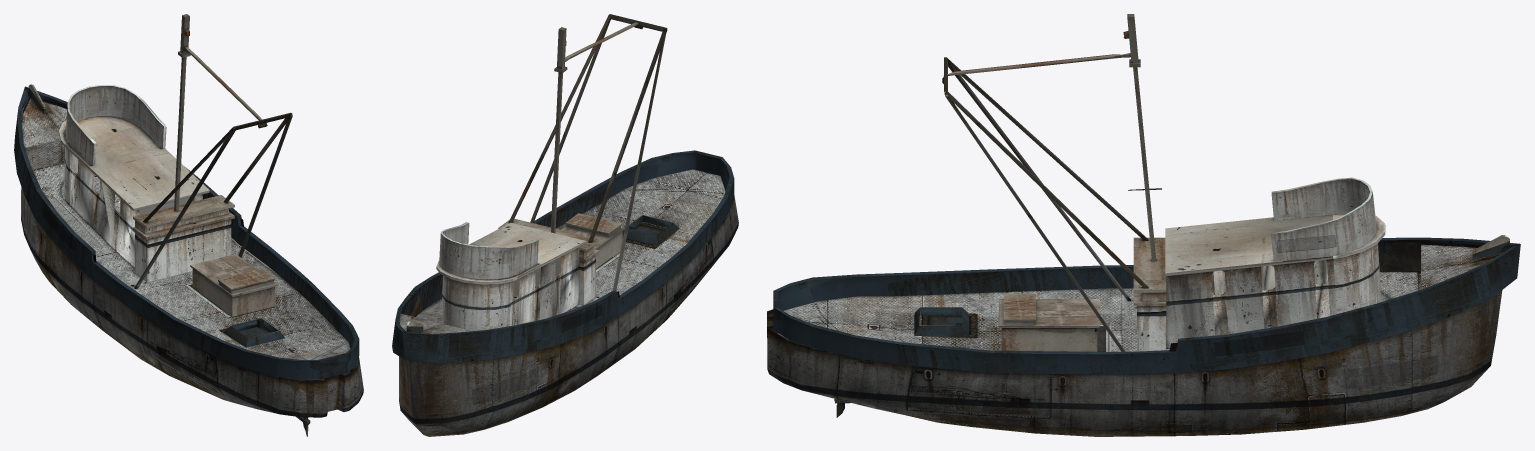
Rendered from fish_board.FBX.
3 views of the same model, side by side, from view 1: azimuth 30°, elevation 25°; view 2: azimuth 150°, elevation 25°; view 3: azimuth 270°, elevation 25° (orthographic). The views are drawn at different scales.
Visible parts, largest first — view 1: smdimport; view 2: smdimport; view 3: smdimport.
Part boxes in pixels (<box>): smdimport: <box>14,14,363,436</box>; smdimport: <box>392,14,738,436</box>; smdimport: <box>767,14,1520,436</box>.
Size of the model in its own units: 303 by 639 by 1084.
